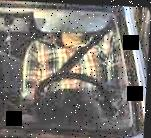seatbelt: (41, 28, 112, 79)
